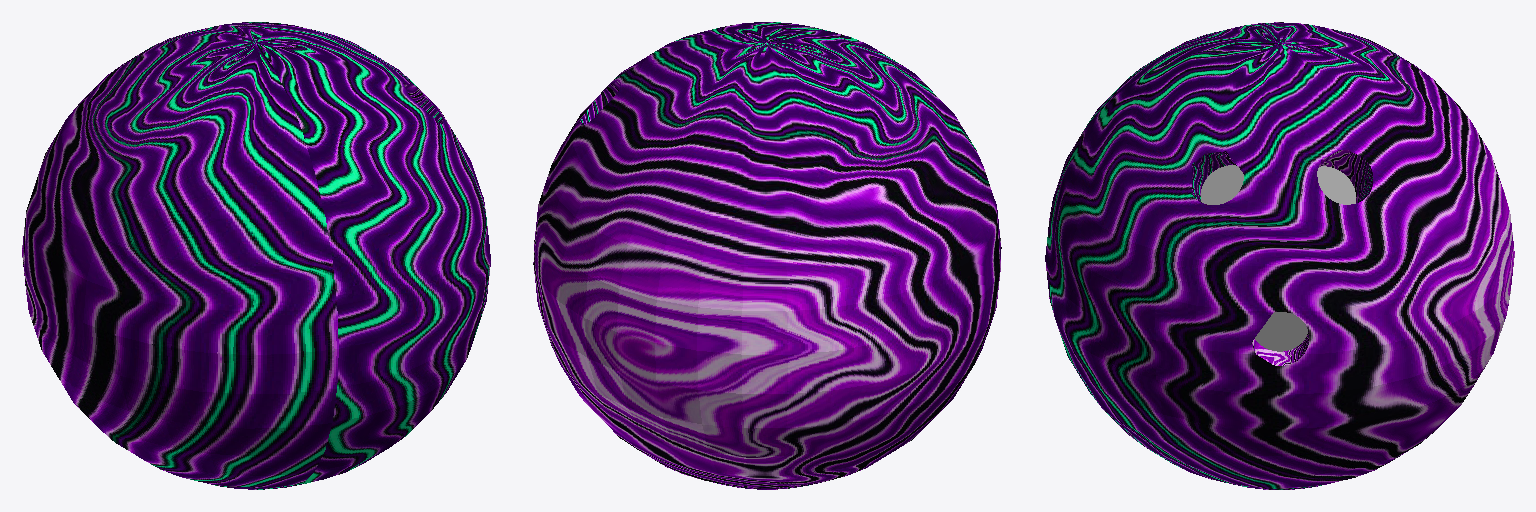
The picture shows the model from 3 angles: view 1: azimuth 30°, elevation 25°; view 2: azimuth 150°, elevation 25°; view 3: azimuth 270°, elevation 25°; orthographic projection.
Visible parts, largest first — view 1: Sphere; view 2: Sphere; view 3: Sphere.
Part boxes in pixels (x1,y1,x2,y2): Sphere: (22,22,490,489); Sphere: (533,22,1001,489); Sphere: (1045,22,1514,489).
Size of the model in its own units: 1.99 by 2 by 2.
2 materials, 1 textured.